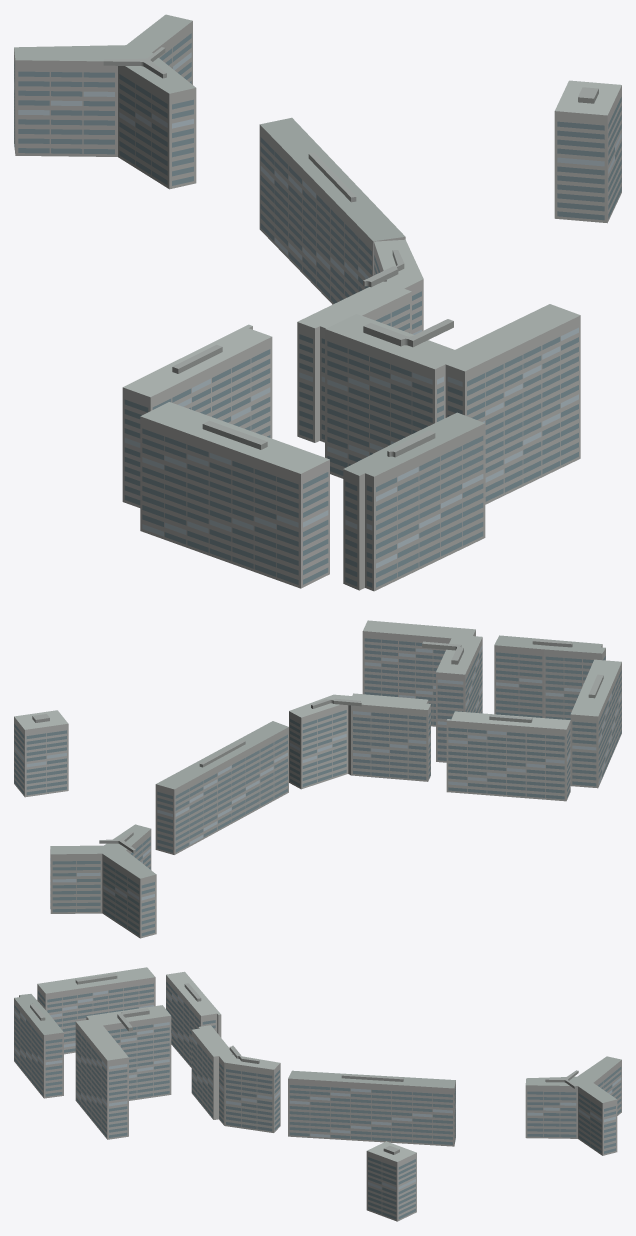
File: apt-a15386506.glb
The picture shows the model from 3 angles, top to bottom: view 1: azimuth 30°, elevation 25°; view 2: azimuth 150°, elevation 25°; view 3: azimuth 270°, elevation 25°; orthographic projection. The views are drawn at different scales.
Visible parts, largest first — view 1: apt-a15386506; view 2: apt-a15386506; view 3: apt-a15386506.
Part boxes in pixels (x1,y1,x2,y2): apt-a15386506: (14,14,621,591); apt-a15386506: (14,620,621,938); apt-a15386506: (14,967,621,1221).
Size of the model in its own units: 236 by 47.81 by 318.
